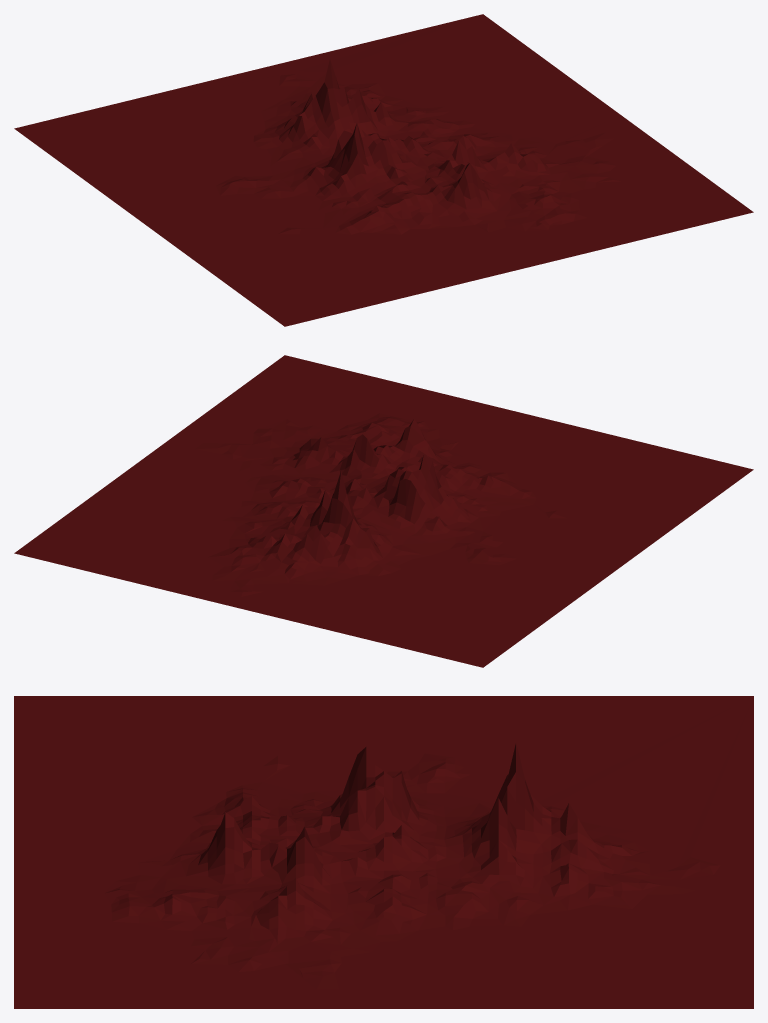
The model's file is space_mountain.fbx.
The picture shows the model from 3 angles, top to bottom: view 1: azimuth 30°, elevation 25°; view 2: azimuth 150°, elevation 25°; view 3: azimuth 270°, elevation 25°; orthographic projection. The views are drawn at different scales.
Parts seen in each view (by area): view 1: Plane.001; view 2: Plane.001; view 3: Plane.001.
Boxes of the visible parts, <box> form: Plane.001: <box>14,14,753,326</box>; Plane.001: <box>14,355,753,667</box>; Plane.001: <box>14,696,753,1008</box>.
Size of the model in its own units: 925 by 147 by 925.
